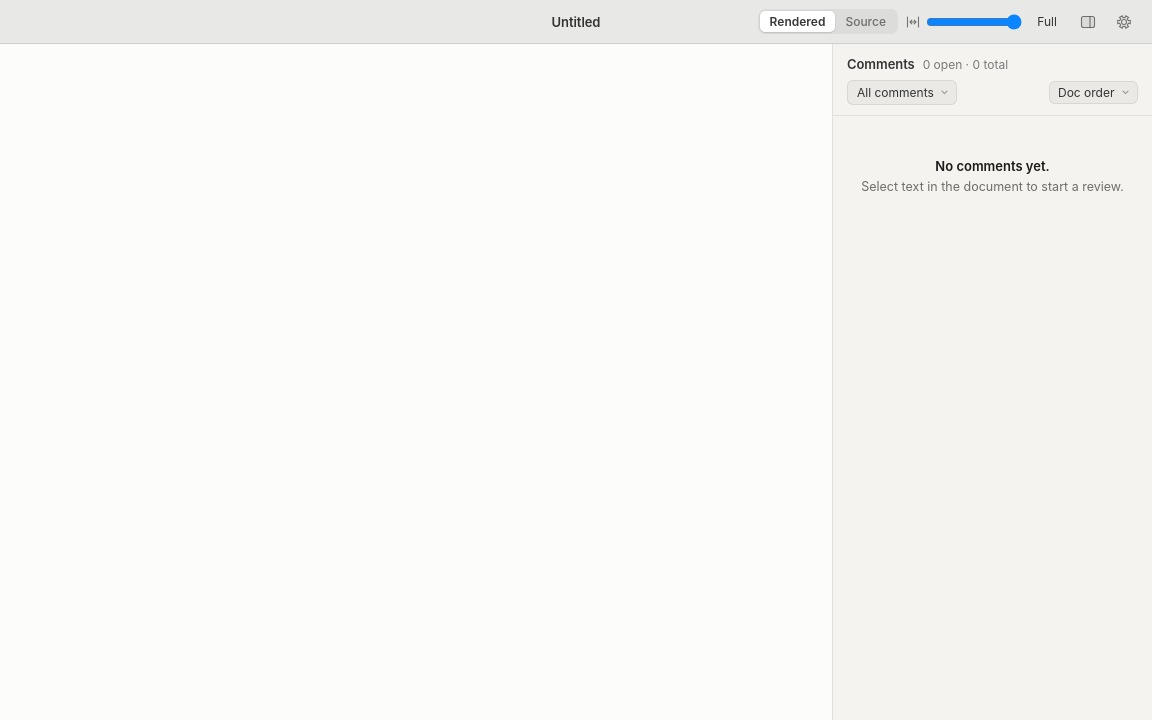
it: Phase 11 — Settings modal › Font size stepper increments and clamps
Click the button with test id "fm-titlebar-settings": (1124, 22) [1110, 10, 1138, 34]
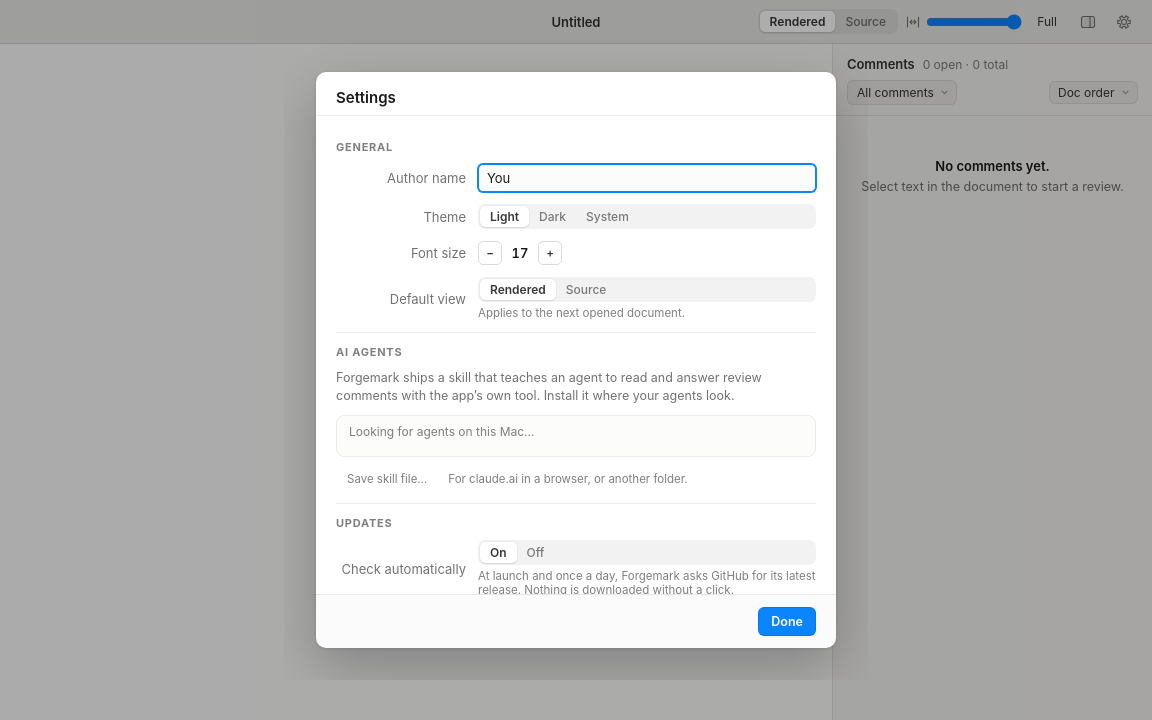
Check: the text with test id "fm-settings-font-value" reads "17", box [512, 245, 528, 261]
Click the button with test id "fm-settings-font-up": (550, 253) [538, 241, 562, 265]
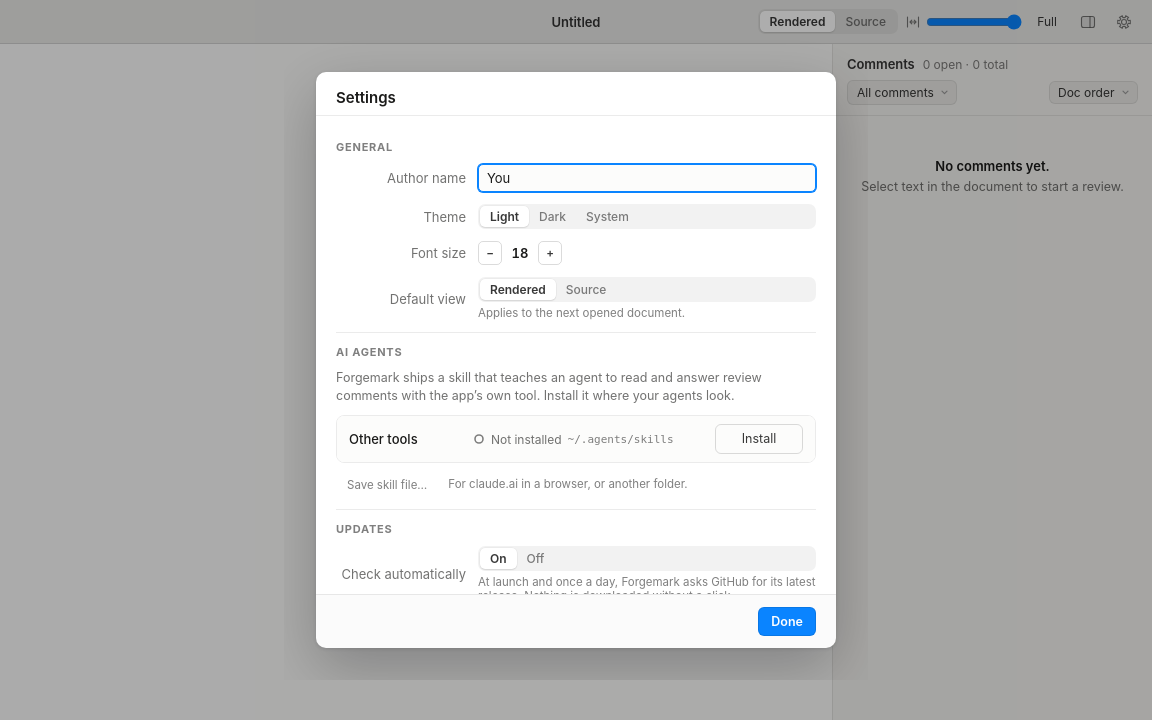
Check: the text with test id "fm-settings-font-value" reads "18", box [512, 245, 528, 261]
